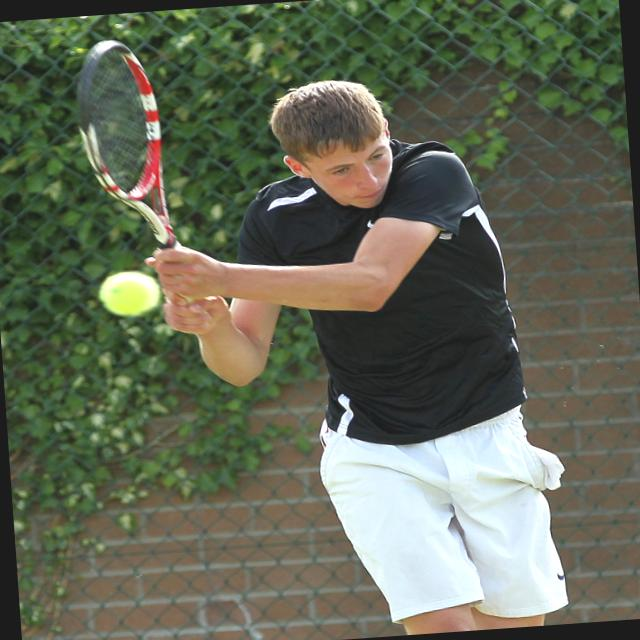Tennis ball: (95, 268, 158, 318)
